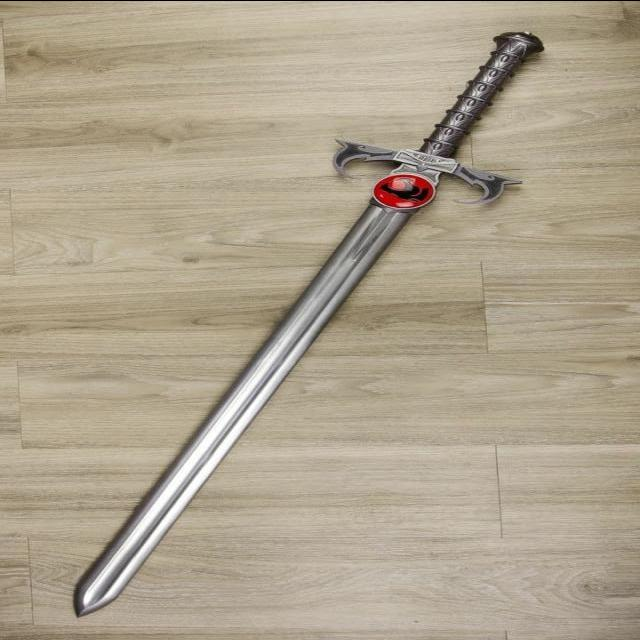sword: (71, 31, 551, 618)
